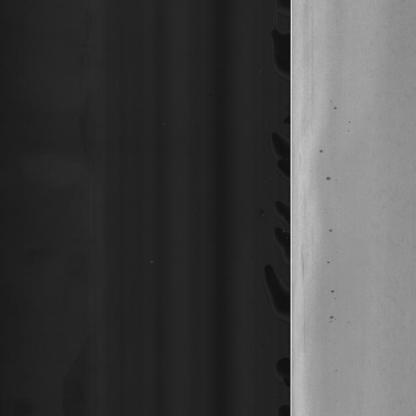oil_spot: (326, 276, 340, 306), (323, 154, 332, 194), (323, 222, 336, 243), (328, 95, 339, 115), (327, 312, 340, 328)
